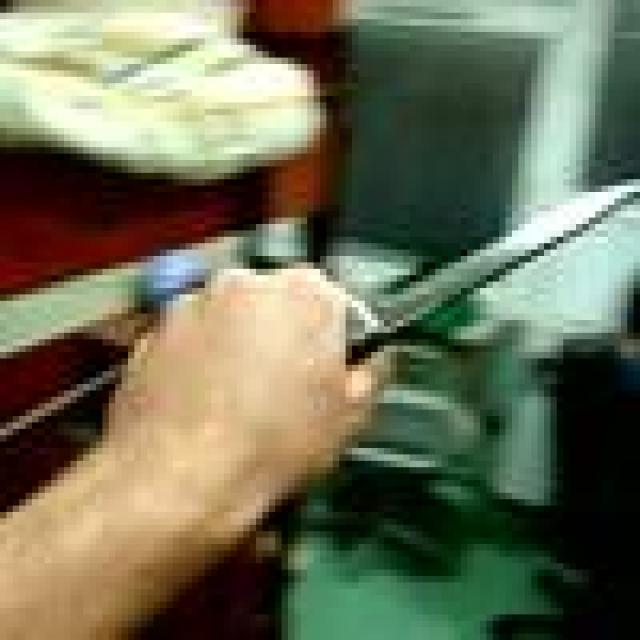knife: (345, 187, 640, 339)
